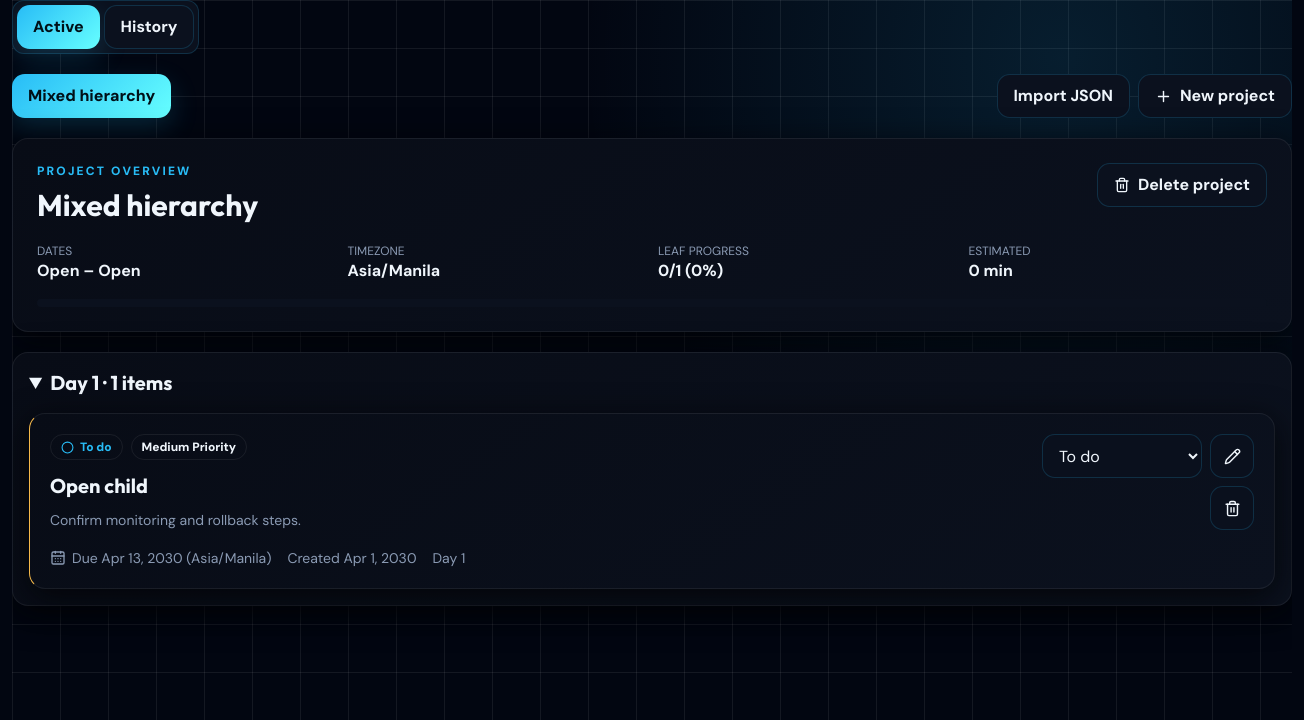
Test: ProjectPanel resource and form states › keeps an unfinished child visible when its completed parent is in History
This screenshot has width=1304, height=720.
Expected: the heading "Open child" is shown, [50,473,148,498]
Expected: the heading "Finished parent" is not shown
Click the tab "History".
click(149, 27)  # box [104,5,194,49]
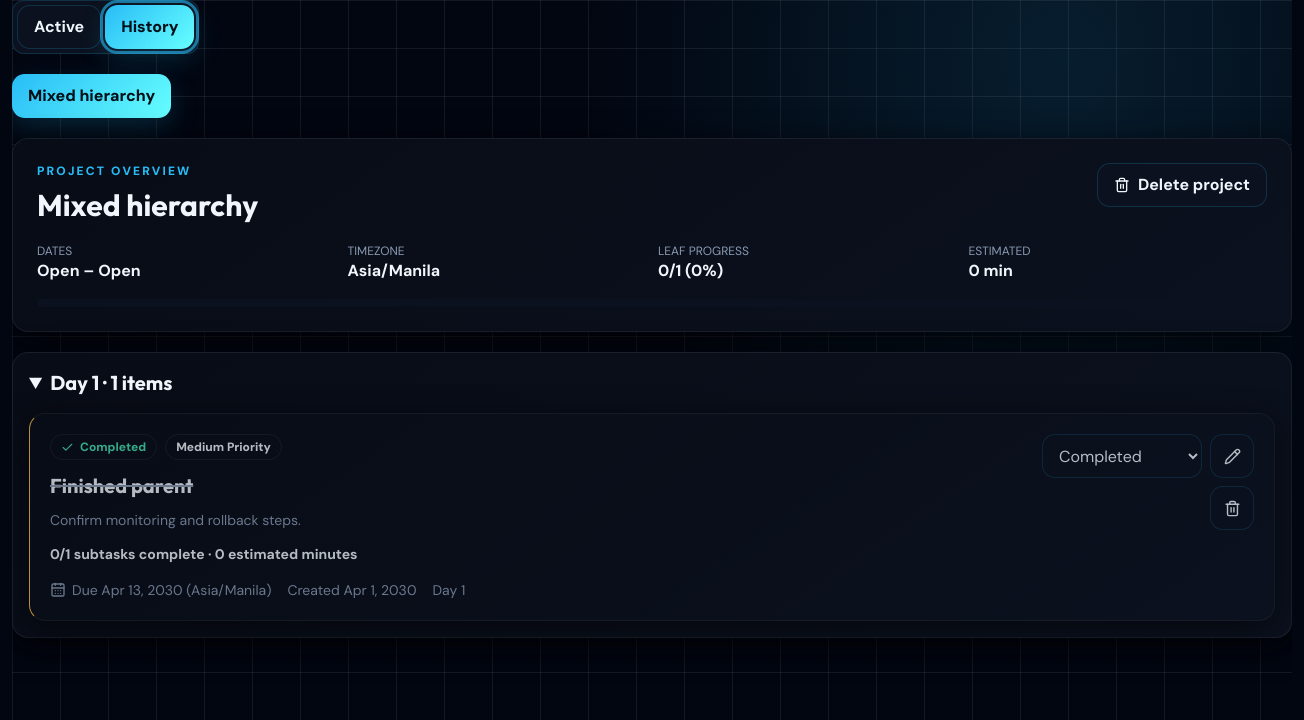
Result: the heading "Finished parent" is shown at [50,473,193,498]
Result: the heading "Open child" is gone
